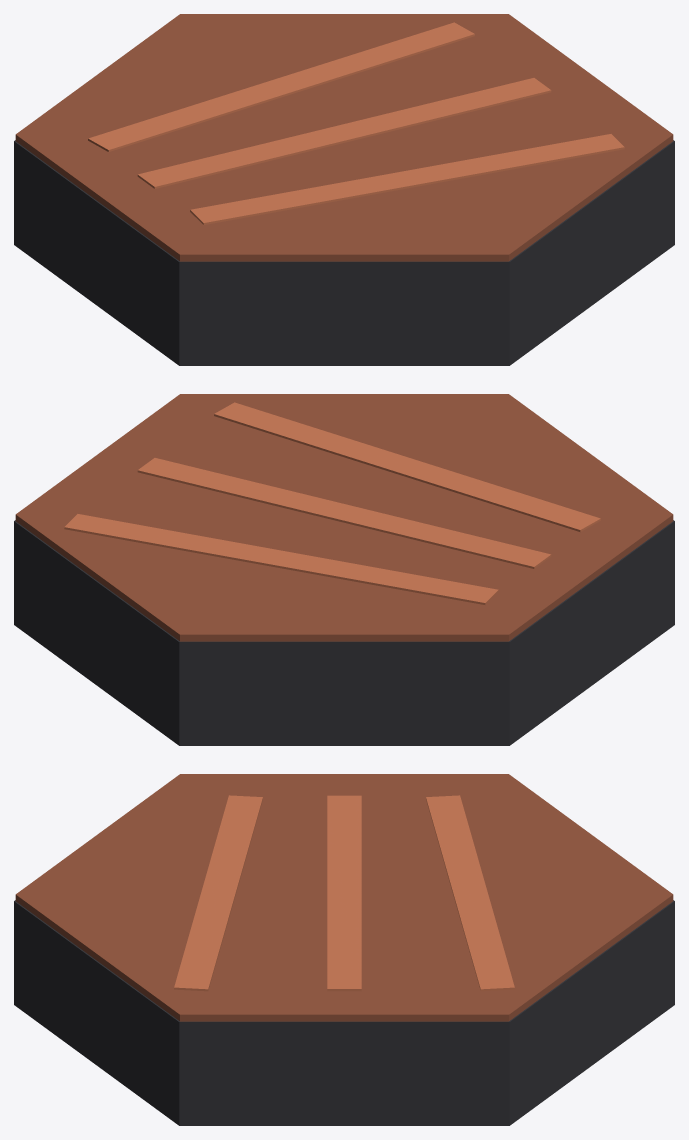
The model's file is dirt.glb.
3 renders of one model, top to bottom at view 1: azimuth 30°, elevation 25°; view 2: azimuth 150°, elevation 25°; view 3: azimuth 270°, elevation 25°, orthographic.
Visible parts, largest first — view 1: dirt; view 2: dirt; view 3: dirt.
Part boxes in pixels (x1,y1,x2,y2): dirt: [14, 14, 674, 365]; dirt: [14, 394, 674, 745]; dirt: [14, 774, 674, 1125].
Bounding box in the file's own units: 1 × 0.217 × 1.15.
1 material, 1 textured.
